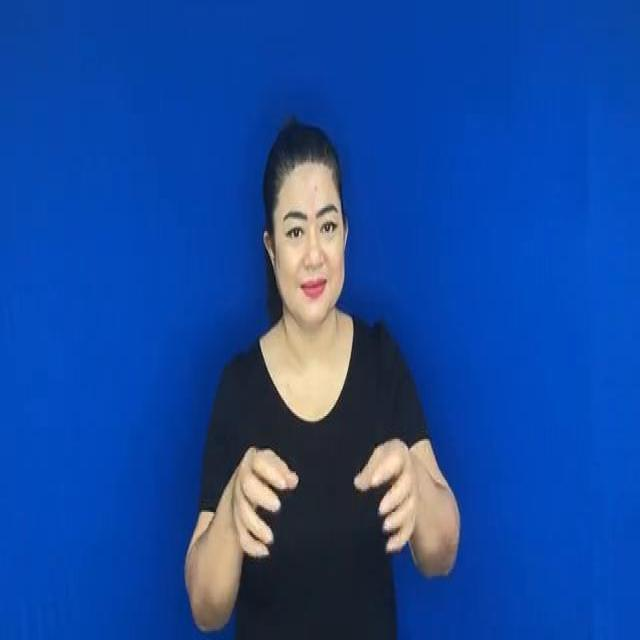egg: (198, 429, 434, 572)
